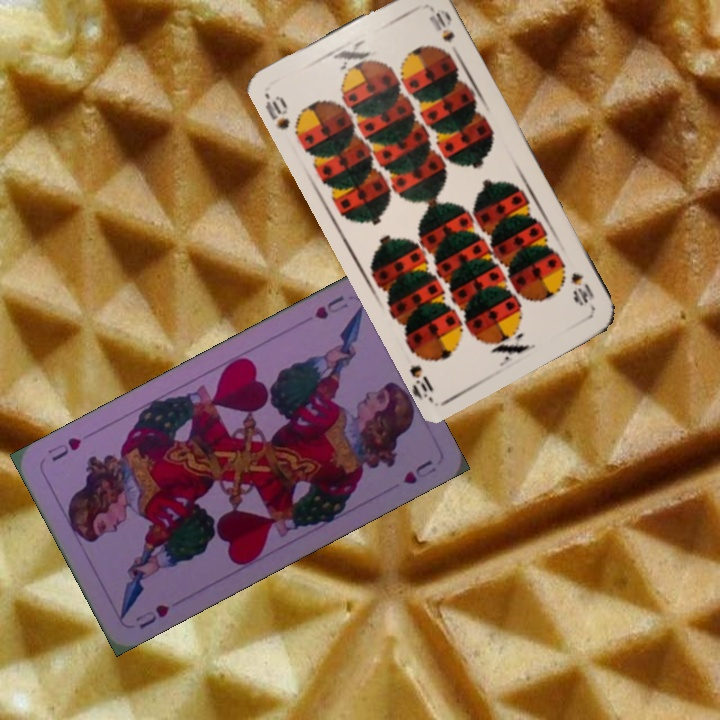HU: (131, 600, 172, 632), (310, 291, 351, 322)
S10: (566, 268, 597, 312), (261, 91, 293, 132)
